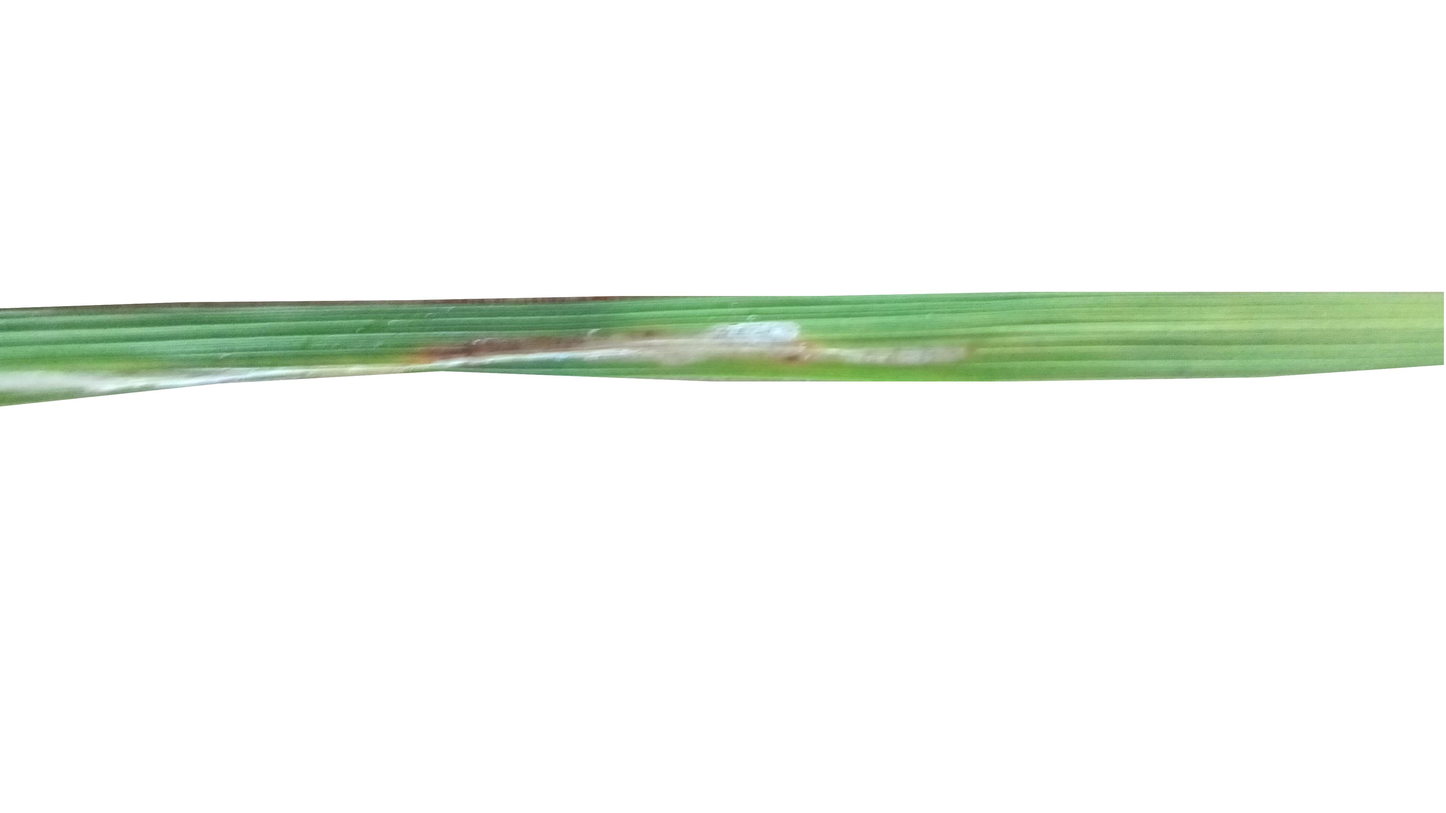Blight: (403, 339, 982, 373), (673, 314, 813, 373), (2, 360, 202, 389)
